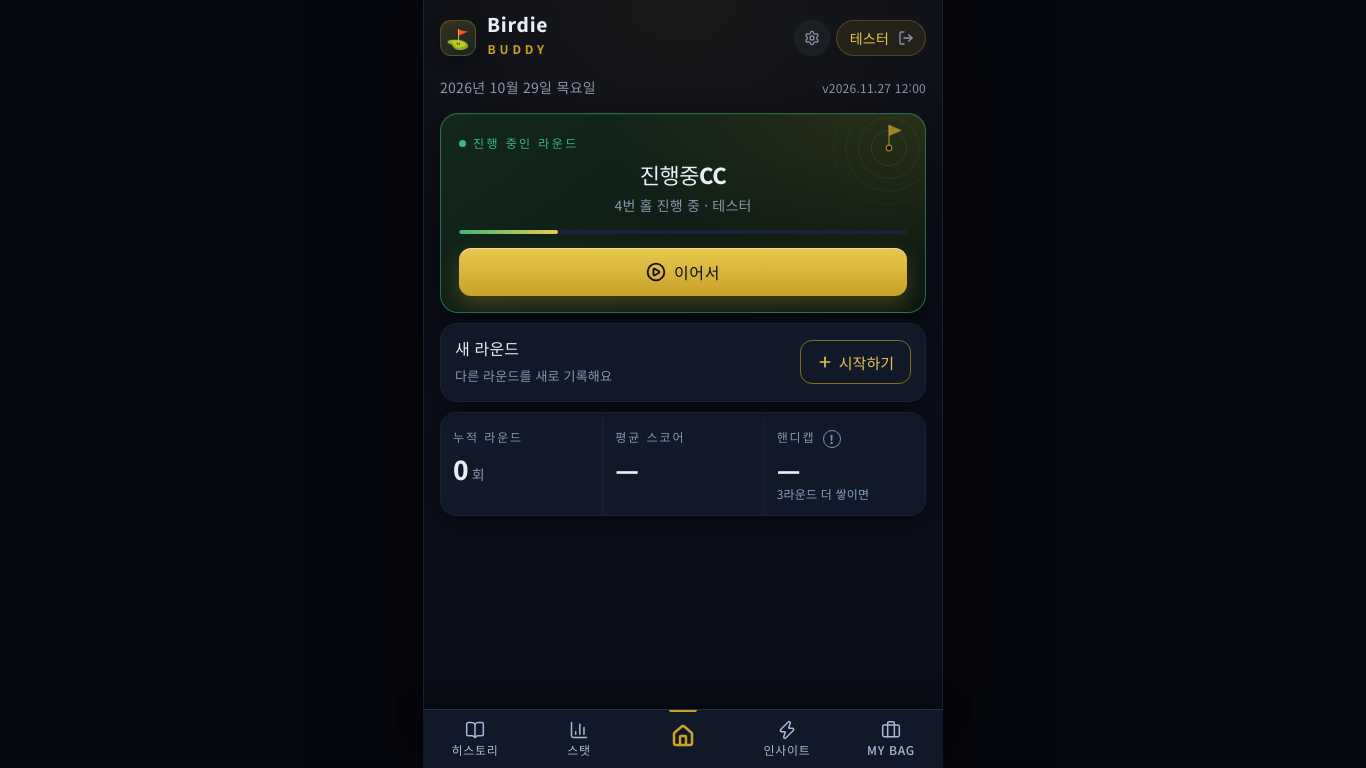
진행 중인 라운드 보호 › 이어하기 창 바깥을 누르면 아무것도 지우지 않고 닫힌다
The image size is (1366, 768).
Expected: the text "새 라운드" is shown, [455,336,519,360]
Click the button "시작하기" at (855, 362), box [800,340,911,384]
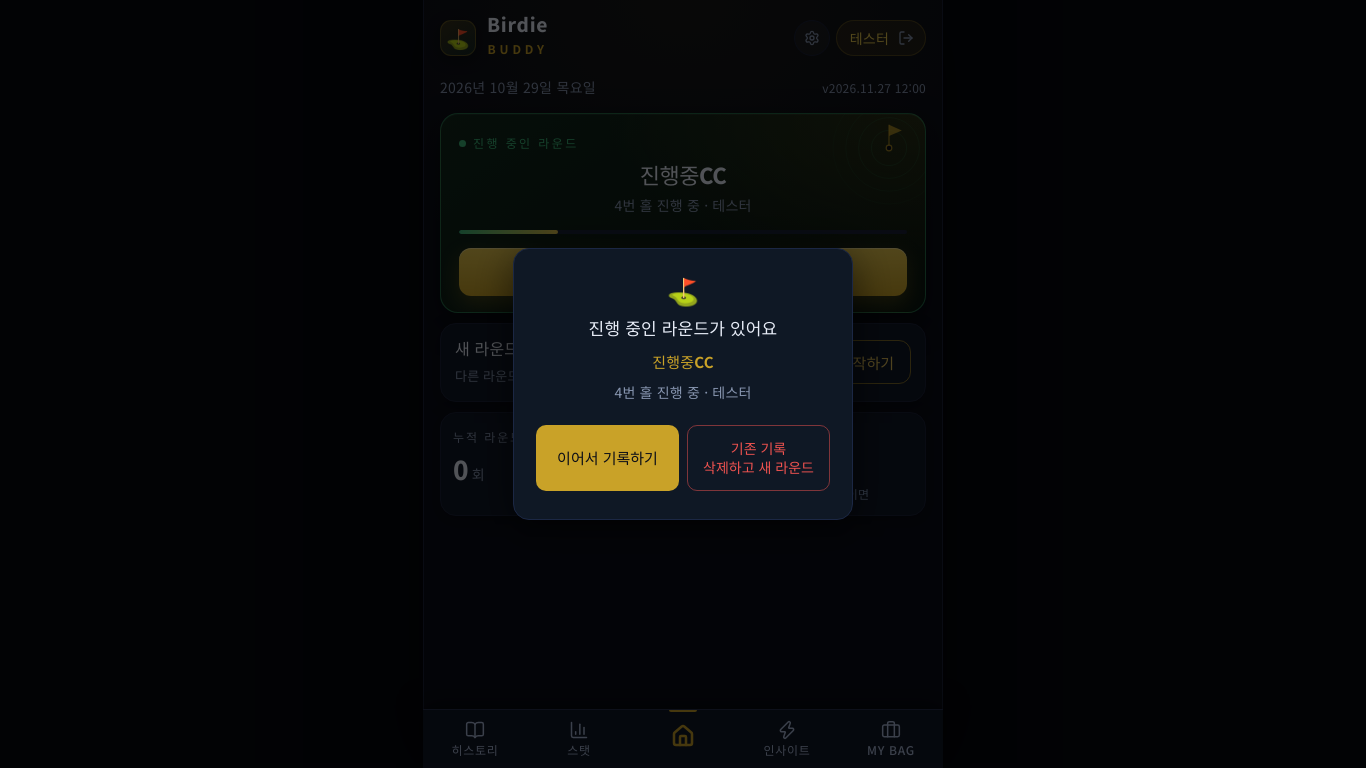
Click the button "기존 기록 삭제하고 새 라운드" at (758, 458), box [687,425,830,491]
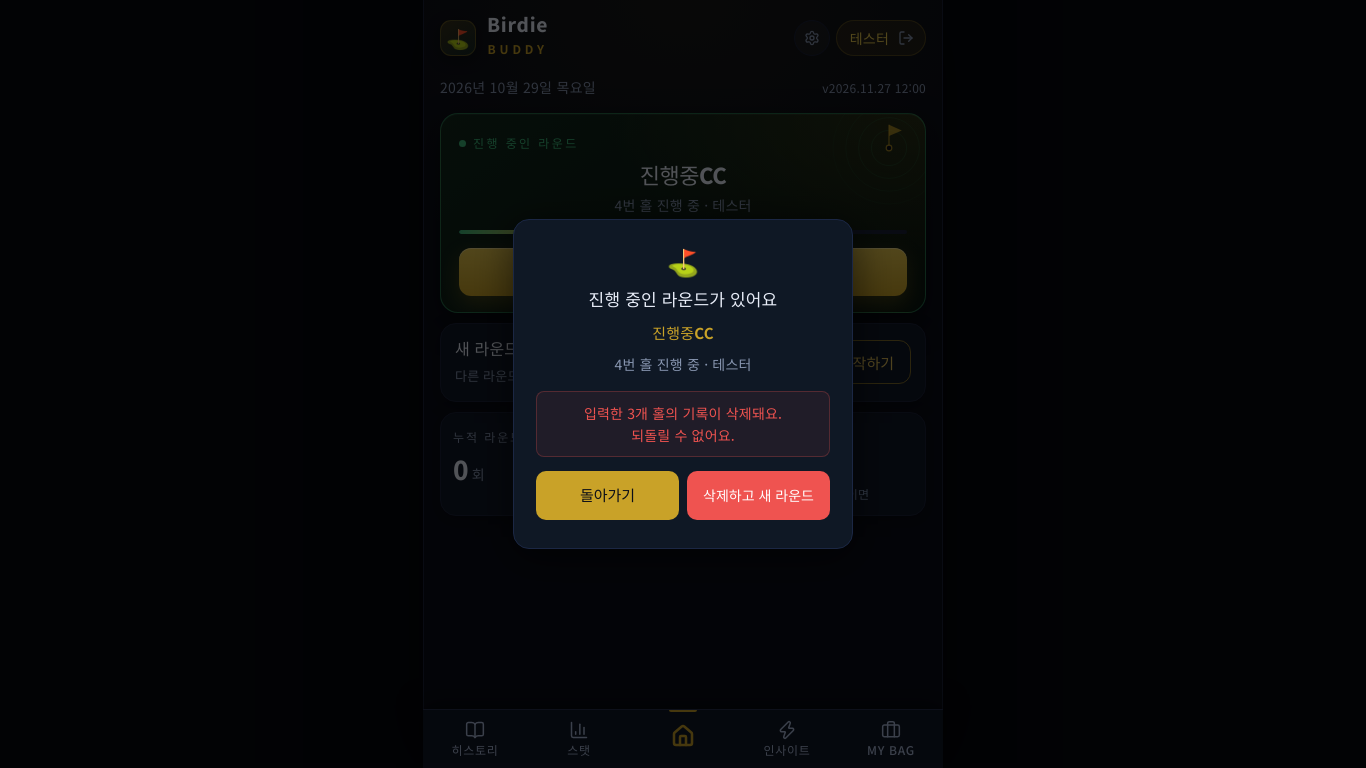
Click the button "돌아가기" at (608, 496), box [536,472,679,520]
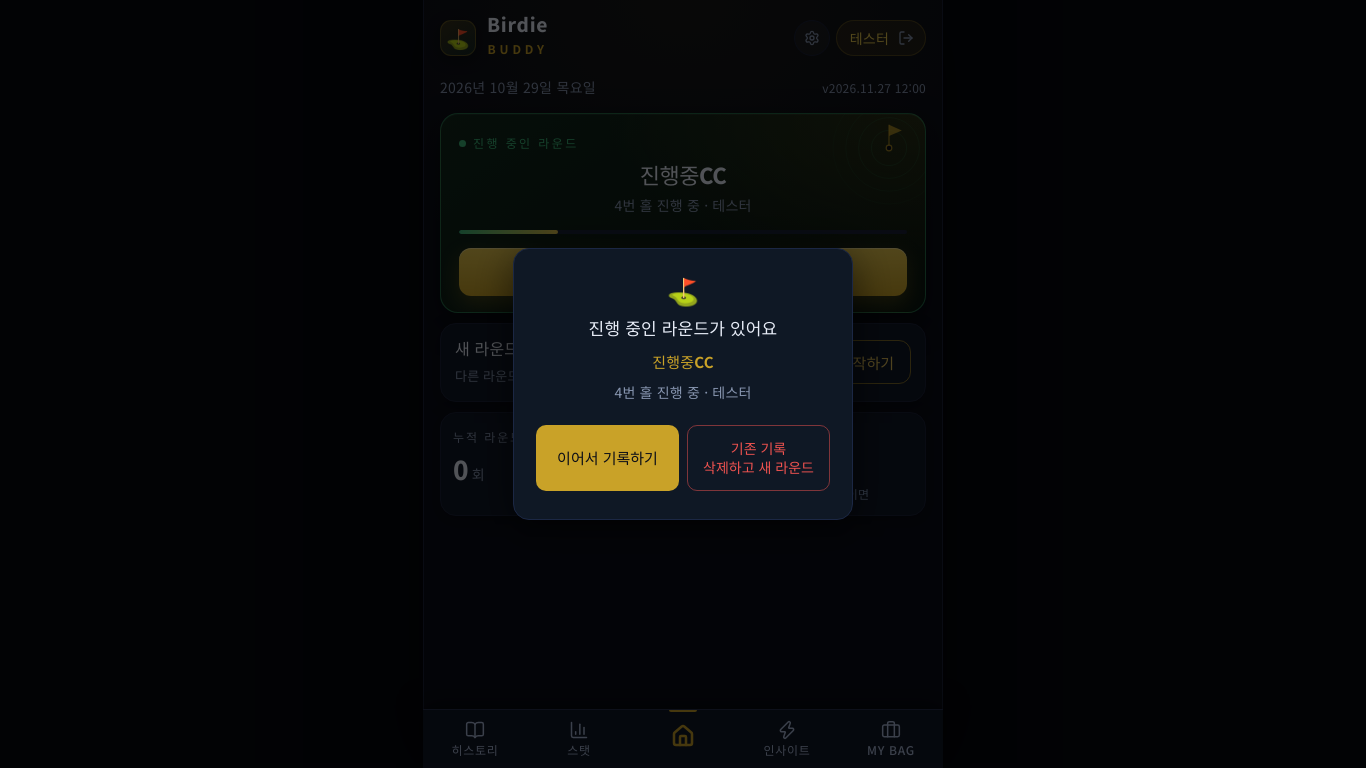
Click the text "진행 중인 라운드가 있어요" at (82, 384), box [0,0,1365,767]
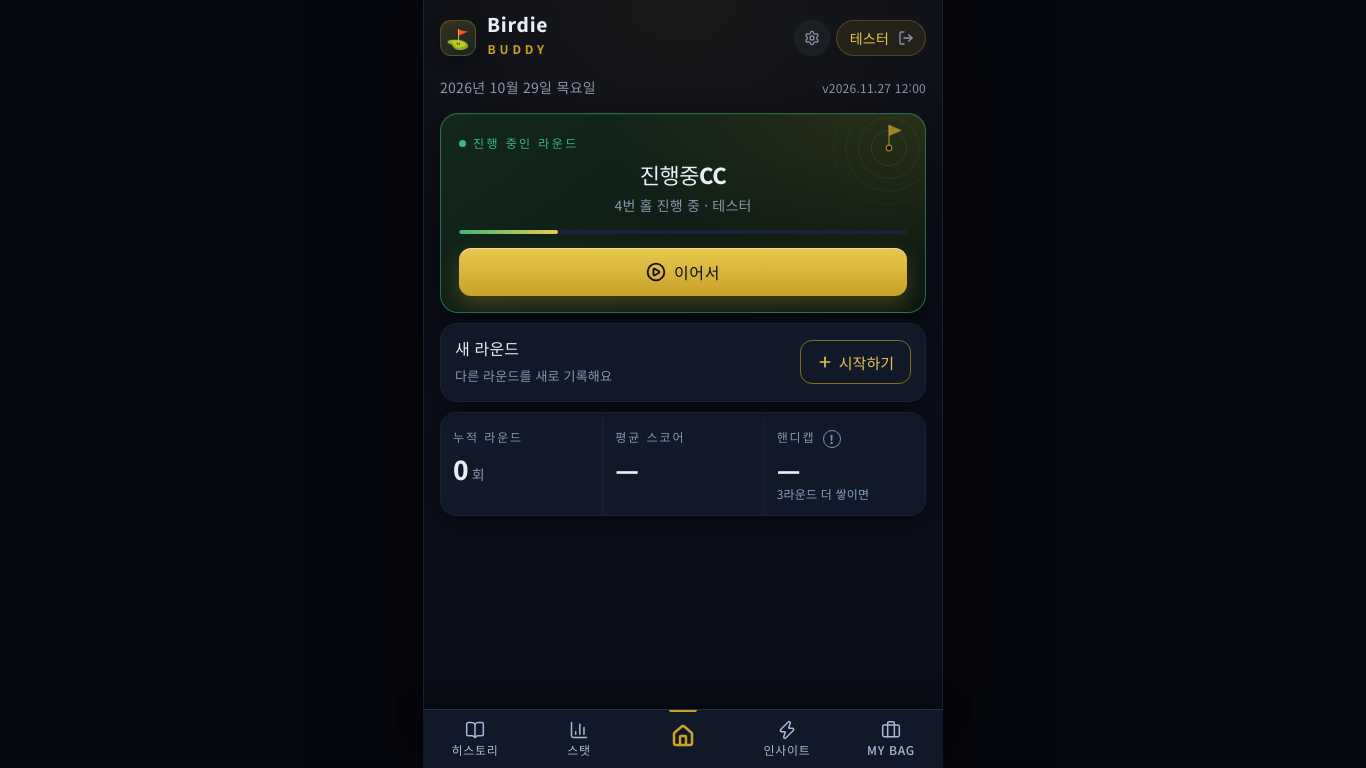
Now the text "진행 중인 라운드가 있어요" is gone
